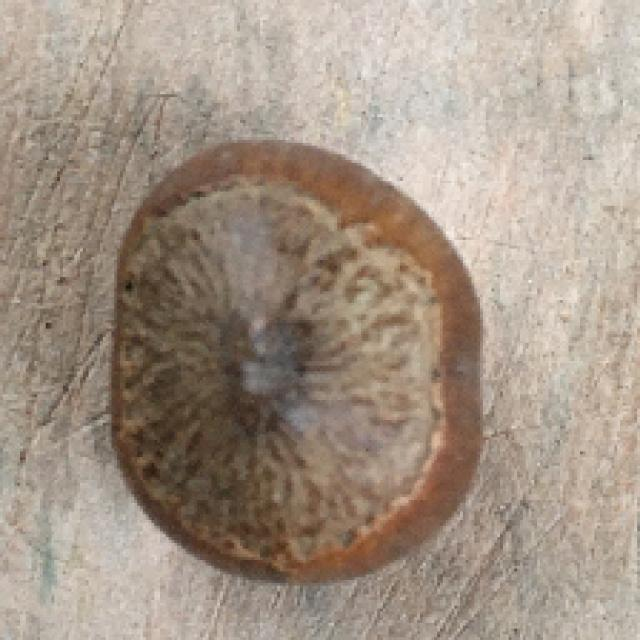damagedHazelnut: (96, 133, 494, 584)
